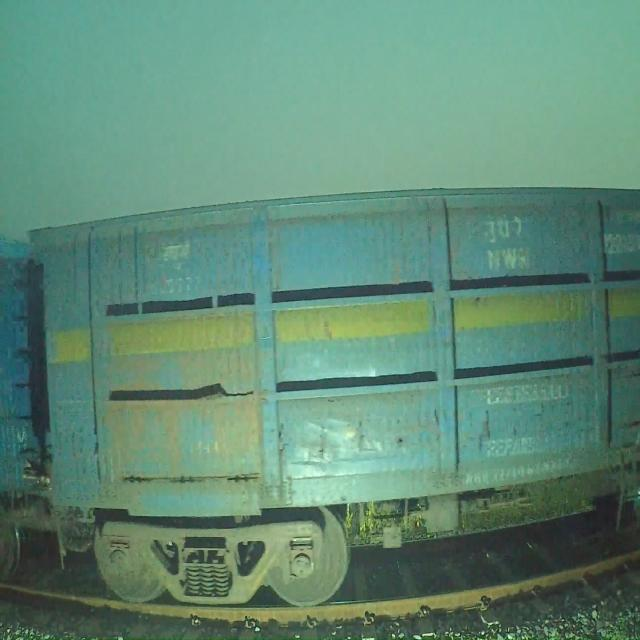WAgon-uic: (24, 179, 640, 611), (0, 224, 105, 591)
uic: (596, 228, 640, 264)
